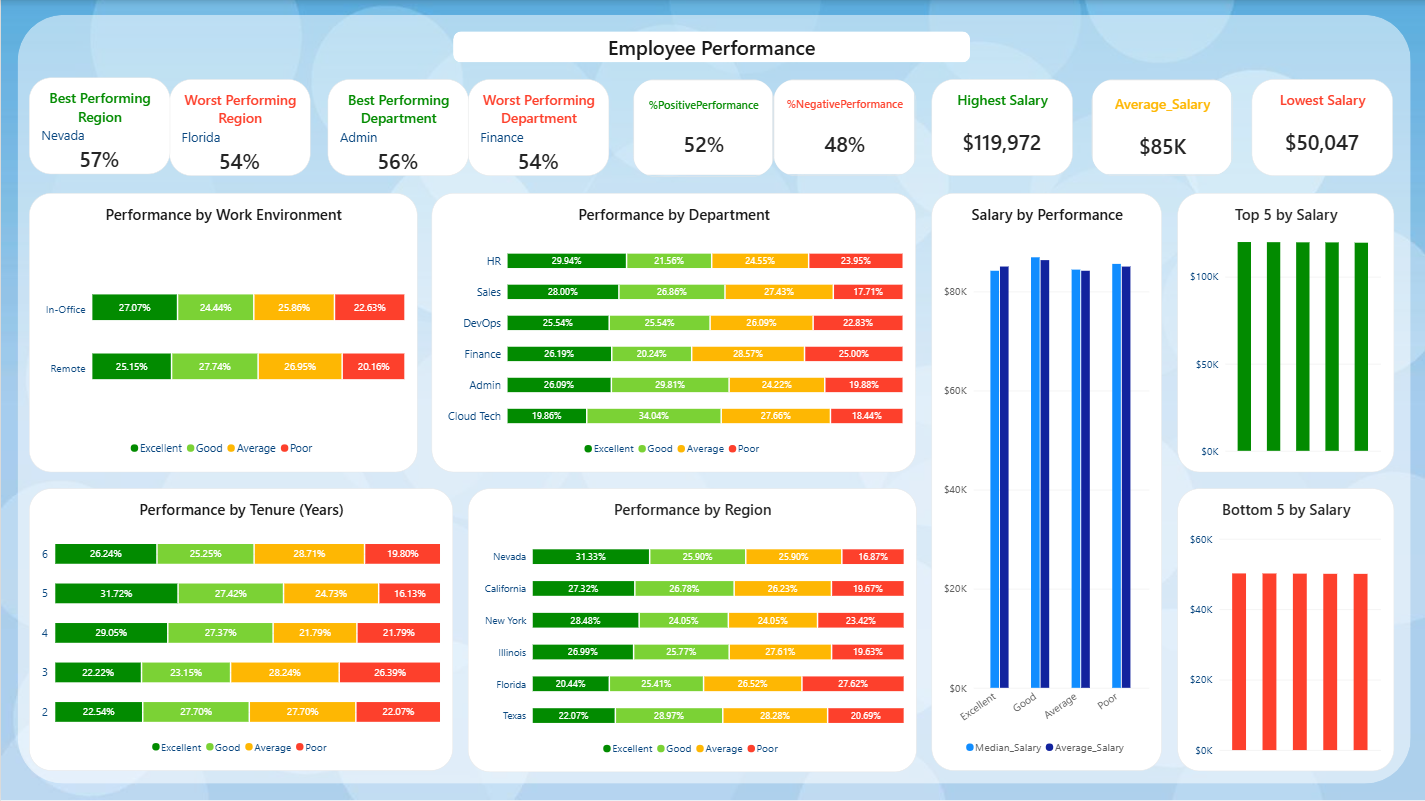

What the dashboard file says about the page in this screenshot:
{"tool":"powerbi","page":{"name":"Page 1","canvas":[1920,1080],"ordinal":0},"visuals":[{"type":"image","box":[0,0,1920.5,1078.6],"z":0},{"type":"shape","box":[22.2,20,1878.4,1036.5],"z":1000},{"type":"hundredPercentStackedBarChart","title":"Performance by Department","fields":{"Y":["Cleaned_Data.Excellent","Cleaned_Data.Good","Cleaned_Data.Average","Cleaned_Data.Poor"],"Category":["Cleaned_Data.Department"]},"box":[581.4,260.5,652.4,376.2],"z":2000},{"type":"hundredPercentStackedBarChart","title":"Performance by Work Environment","fields":{"Y":["Cleaned_Data.Excellent","Cleaned_Data.Good","Cleaned_Data.Average","Cleaned_Data.Poor"],"Category":["Cleaned_Data.Work_Environment"]},"box":[36.8,260.5,523.5,376.2],"z":3000},{"type":"hundredPercentStackedBarChart","title":"Performance by Tenure (Years)","fields":{"Category":["Cleaned_Data.Tenure (Years)"],"Y":["Cleaned_Data.Excellent","Cleaned_Data.Good","Cleaned_Data.Average","Cleaned_Data.Poor"]},"box":[37.8,658.4,571.7,380.4],"z":4000},{"type":"hundredPercentStackedBarChart","title":"Performance by Region","fields":{"Category":["Cleaned_Data.Region"],"Y":["Cleaned_Data.Excellent","Cleaned_Data.Good","Cleaned_Data.Average","Cleaned_Data.Poor"]},"box":[629.5,658.4,605,382.6],"z":5000},{"type":"clusteredColumnChart","title":"Salary by Performance","fields":{"Y":["Cleaned_Data.Median_Salary","Cleaned_Data.Average_Salary"],"Category":["Sort_Order.Performance_Score"]},"box":[1254.9,260.5,310.4,778.7],"z":6000},{"type":"columnChart","title":"Top 5 by Salary","fields":{"Category":["Cleaned_Data.Employee_ID"],"Y":["Sum(Cleaned_Data.Salary)"]},"box":[1586.4,260.5,292,376.2],"z":7000},{"type":"columnChart","title":"Bottom 5 by Salary","fields":{"Category":["Cleaned_Data.Employee_ID"],"Y":["Sum(Cleaned_Data.Salary)"]},"box":[1586.4,657.7,292,381.5],"z":8000},{"type":"shape","box":[610.3,42.1,697.2,42.1],"z":9000},{"type":"cardVisual","title":"Average Salary","fields":{"Data":["Cleaned_Data.Average_Salary"]},"box":[1470,105.7,190,130],"z":10000},{"type":"kpi","title":"Worst Performing Region","fields":{"TrendLine":["Cleaned_Data.Region"],"Indicator":["Cleaned_Data.%NegativePerformance"]},"box":[227.1,105.7,190,130],"z":11000},{"type":"kpi","title":"Best Performing Region","fields":{"TrendLine":["Cleaned_Data.Region"],"Indicator":["Cleaned_Data.%PositivePerformance"]},"box":[36.8,105.2,190,130],"z":12000},{"type":"kpi","title":"Best Performing Department","fields":{"Indicator":["Cleaned_Data.%PositivePerformance"],"TrendLine":["Cleaned_Data.Department"]},"box":[440,107.1,190,130],"z":13000},{"type":"kpi","title":"Worst Performing Department","fields":{"TrendLine":["Cleaned_Data.Department"],"Indicator":["Cleaned_Data.%NegativePerformance"]},"box":[630,107.1,190,130],"z":14000},{"type":"kpi","title":"Highest Salary","fields":{"TrendLine":["Cleaned_Data.Employee_ID"],"Indicator":["Sum(Cleaned_Data.Salary)"]},"box":[1254.3,107.1,190,130],"z":15000},{"type":"kpi","title":"Lowest Salary","fields":{"TrendLine":["Cleaned_Data.Employee_ID"],"Indicator":["Sum(Cleaned_Data.Salary)"]},"box":[1687.1,105.7,190,130],"z":16000},{"type":"cardVisual","fields":{"Data":["Cleaned_Data.%PositivePerformance"]},"box":[852.9,105.7,190,131.4],"z":17000},{"type":"cardVisual","fields":{"Data":["Cleaned_Data.%NegativePerformance"]},"box":[1041.4,105.7,192.9,130],"z":18000}]}

Visuals, with their boxes in screenshot pixels (x1, y1, x2, y2), scaled from the page's 1920x1080 canvas onto the 1425x801 screenshot:
image: 0:0:1424:800
shape: 16:15:1411:784
"Performance by Department" hundredPercentStackedBarChart: 432:193:916:472
"Performance by Work Environment" hundredPercentStackedBarChart: 27:193:416:472
"Performance by Tenure (Years)" hundredPercentStackedBarChart: 28:488:452:770
"Performance by Region" hundredPercentStackedBarChart: 467:488:916:772
"Salary by Performance" clusteredColumnChart: 931:193:1162:771
"Top 5 by Salary" columnChart: 1177:193:1394:472
"Bottom 5 by Salary" columnChart: 1177:488:1394:771
shape: 453:31:970:62
"Average Salary" cardVisual: 1091:78:1232:175
"Worst Performing Region" kpi: 169:78:310:175
"Best Performing Region" kpi: 27:78:168:174
"Best Performing Department" kpi: 327:79:468:176
"Worst Performing Department" kpi: 468:79:609:176
"Highest Salary" kpi: 931:79:1072:176
"Lowest Salary" kpi: 1252:78:1393:175
cardVisual - Cleaned_Data.%PositivePerformance: 633:78:774:176
cardVisual - Cleaned_Data.%NegativePerformance: 773:78:916:175
